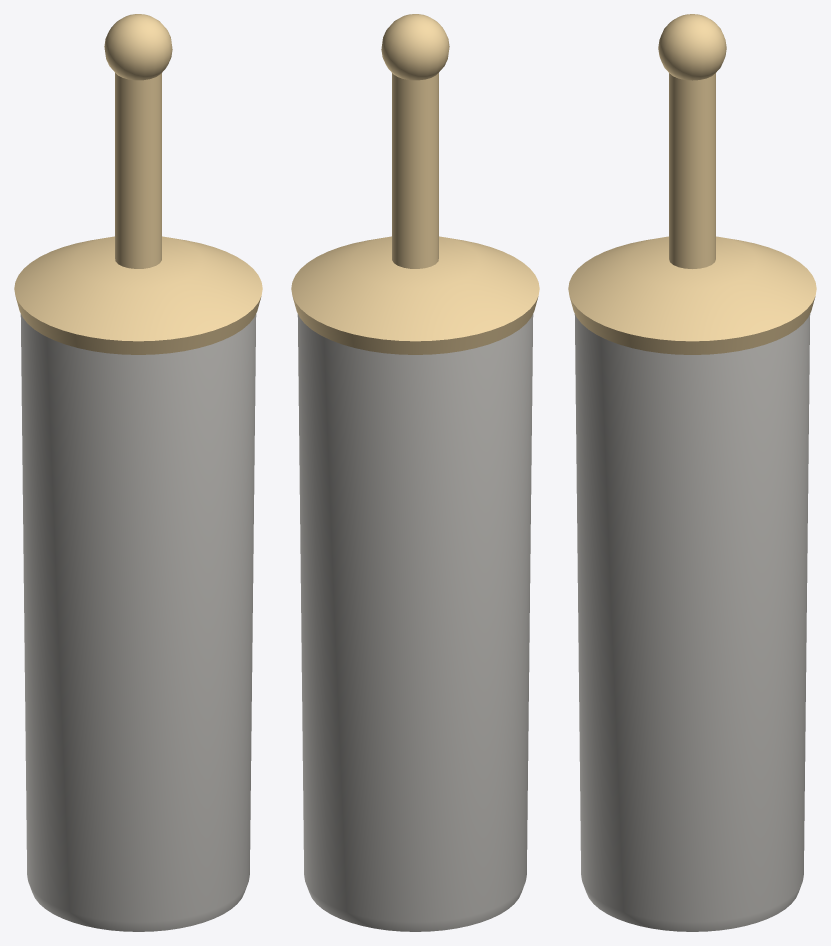
Rendered from escobilla-laton-v2.gltf.
3 views of the same model, side by side, from view 1: azimuth 30°, elevation 25°; view 2: azimuth 150°, elevation 25°; view 3: azimuth 270°, elevation 25° (orthographic).
Parts seen in each view (by area): view 1: escobilla-laton__c_mate, escobilla-laton__m_laton; view 2: escobilla-laton__c_mate, escobilla-laton__m_laton; view 3: escobilla-laton__c_mate, escobilla-laton__m_laton.
Part boxes in pixels (bbox=[...]): escobilla-laton__c_mate: bbox=[20, 314, 256, 931]; escobilla-laton__m_laton: bbox=[14, 14, 262, 354]; escobilla-laton__c_mate: bbox=[297, 314, 533, 931]; escobilla-laton__m_laton: bbox=[291, 14, 539, 354]; escobilla-laton__c_mate: bbox=[574, 314, 810, 931]; escobilla-laton__m_laton: bbox=[568, 14, 816, 354].
Bounding box in the file's own units: 0.116 × 0.448 × 0.116.
